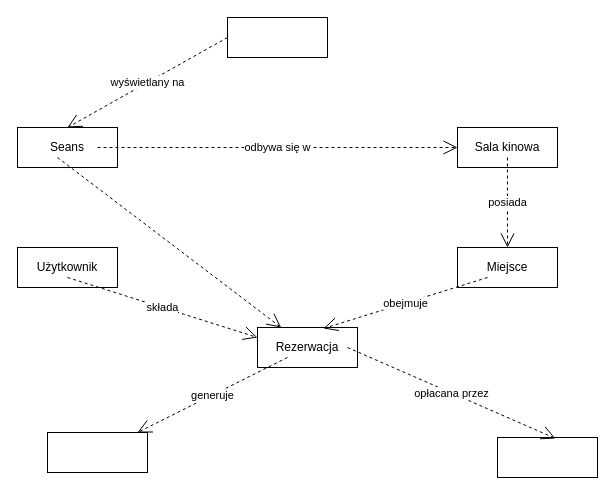
Some shapes in this 615 by 495 pixel diagram are drawn without their labels. Each missing label, with the centre of its shape:
Bilet: [97,452]
Film: [277,37]
Płatność: [547,457]
